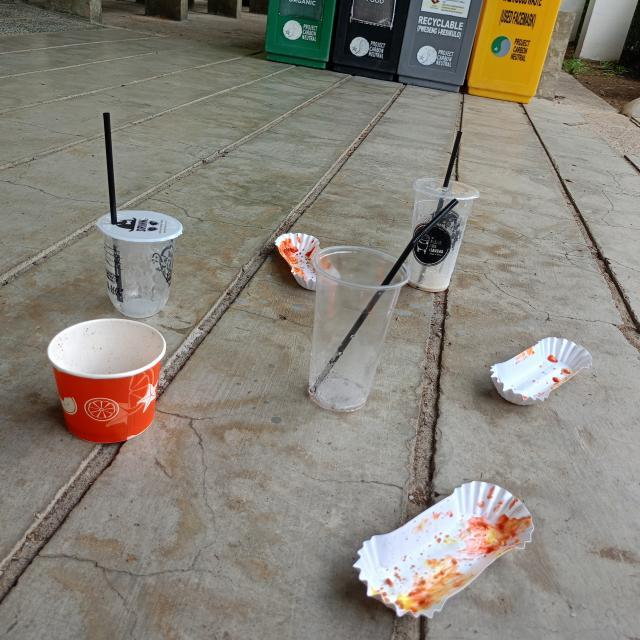recyclable waste: (346, 472, 548, 626), (297, 241, 413, 416), (44, 318, 171, 446), (92, 204, 188, 320), (398, 170, 482, 298), (486, 332, 594, 410), (268, 222, 342, 299)
